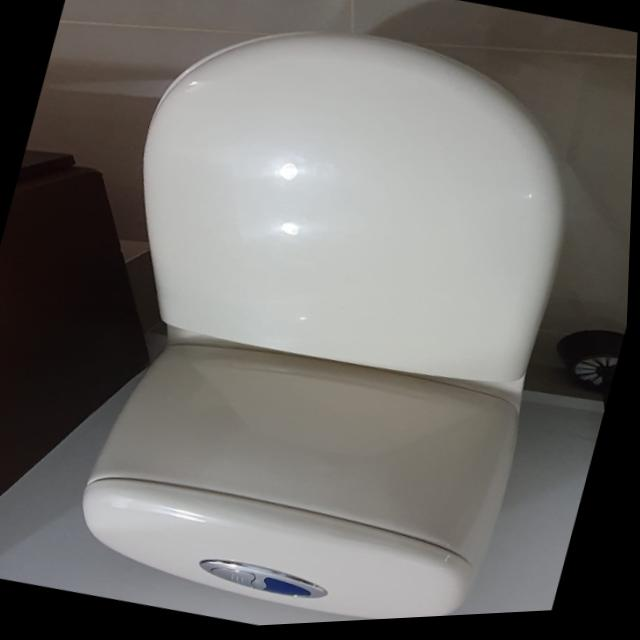toilet: (33, 0, 619, 638)
